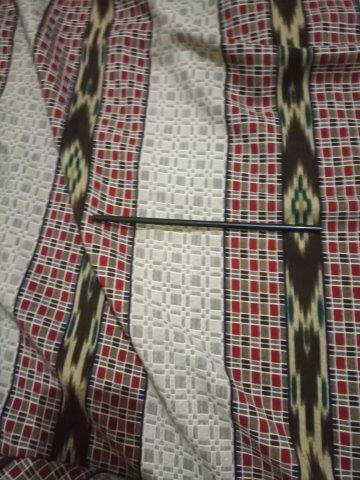sedotan: (94, 215, 323, 232)
